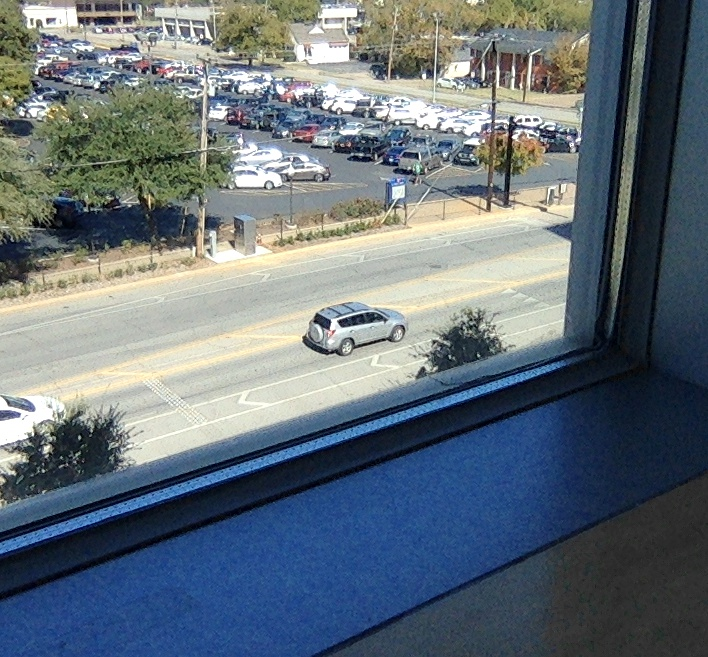car: (300, 300, 408, 357)
